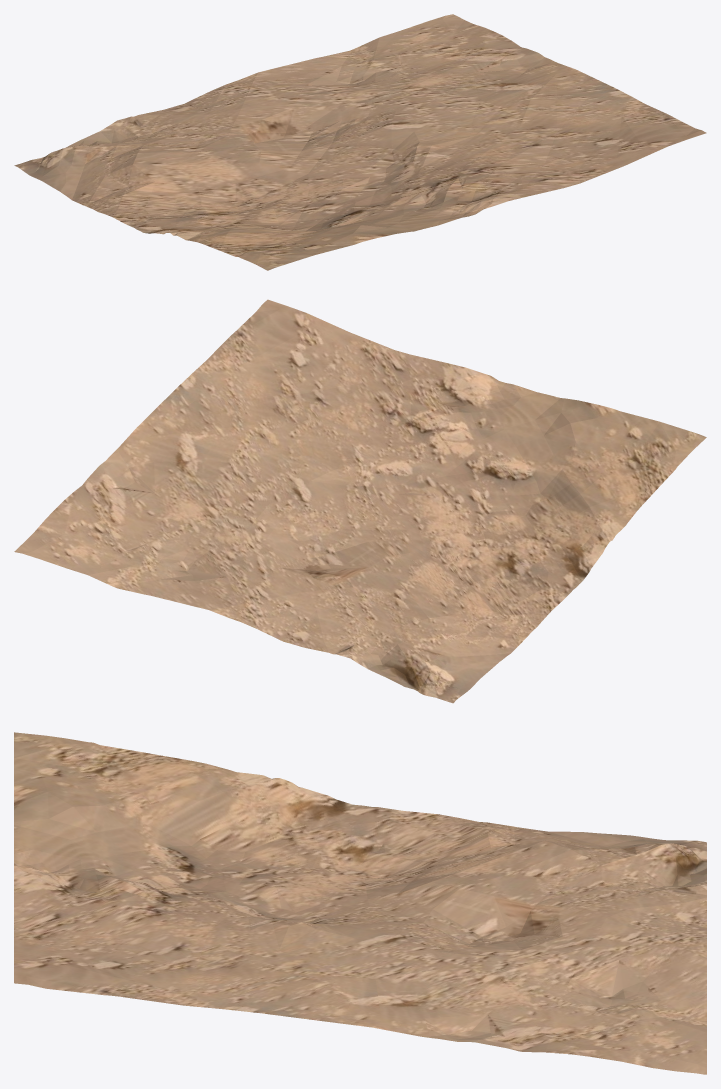
The picture shows the model from 3 angles, top to bottom: view 1: azimuth 30°, elevation 25°; view 2: azimuth 150°, elevation 25°; view 3: azimuth 270°, elevation 25°; orthographic projection. The views are drawn at different scales.
Bounding box in the file's own units: 2.09 × 0.5053 × 2.09.
Materials: 2 (2 with a texture image).
